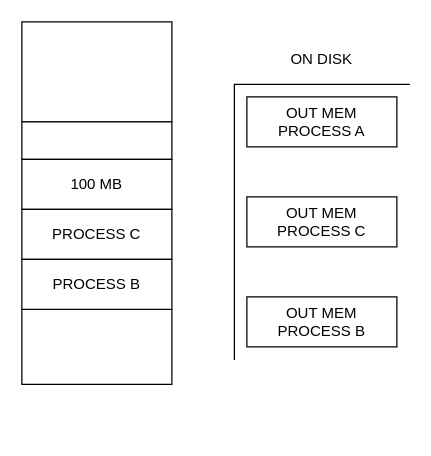
The diagram is 431 pixels wide and 456 high, and some of its shapes have lost their labels. Each missing label, with the centre of its shape:
"200 MB" belongs at (96,346).
"OS" belongs at (96,71).
"PROCESS A" belongs at (96,140).
